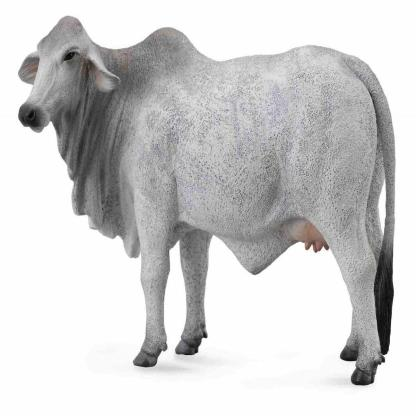cow: (19, 19, 394, 384)
